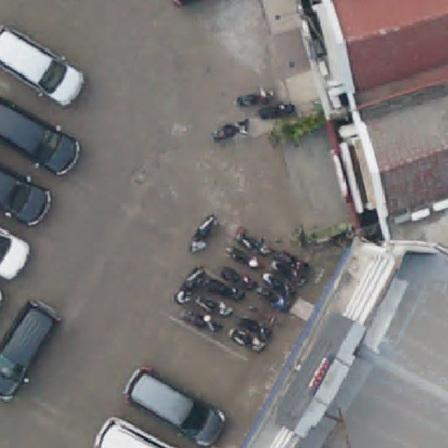Car: (124, 367, 223, 448), (0, 22, 86, 106), (0, 295, 60, 401), (0, 100, 82, 176), (0, 164, 54, 228), (94, 417, 175, 448), (0, 227, 34, 280)
Motorcycle: (271, 247, 310, 283), (173, 266, 202, 304), (236, 229, 273, 257), (256, 287, 291, 313), (212, 119, 248, 144), (190, 214, 214, 250), (262, 275, 297, 299), (184, 311, 221, 333), (232, 331, 266, 354), (222, 267, 255, 289), (261, 102, 294, 120), (234, 94, 270, 105)
